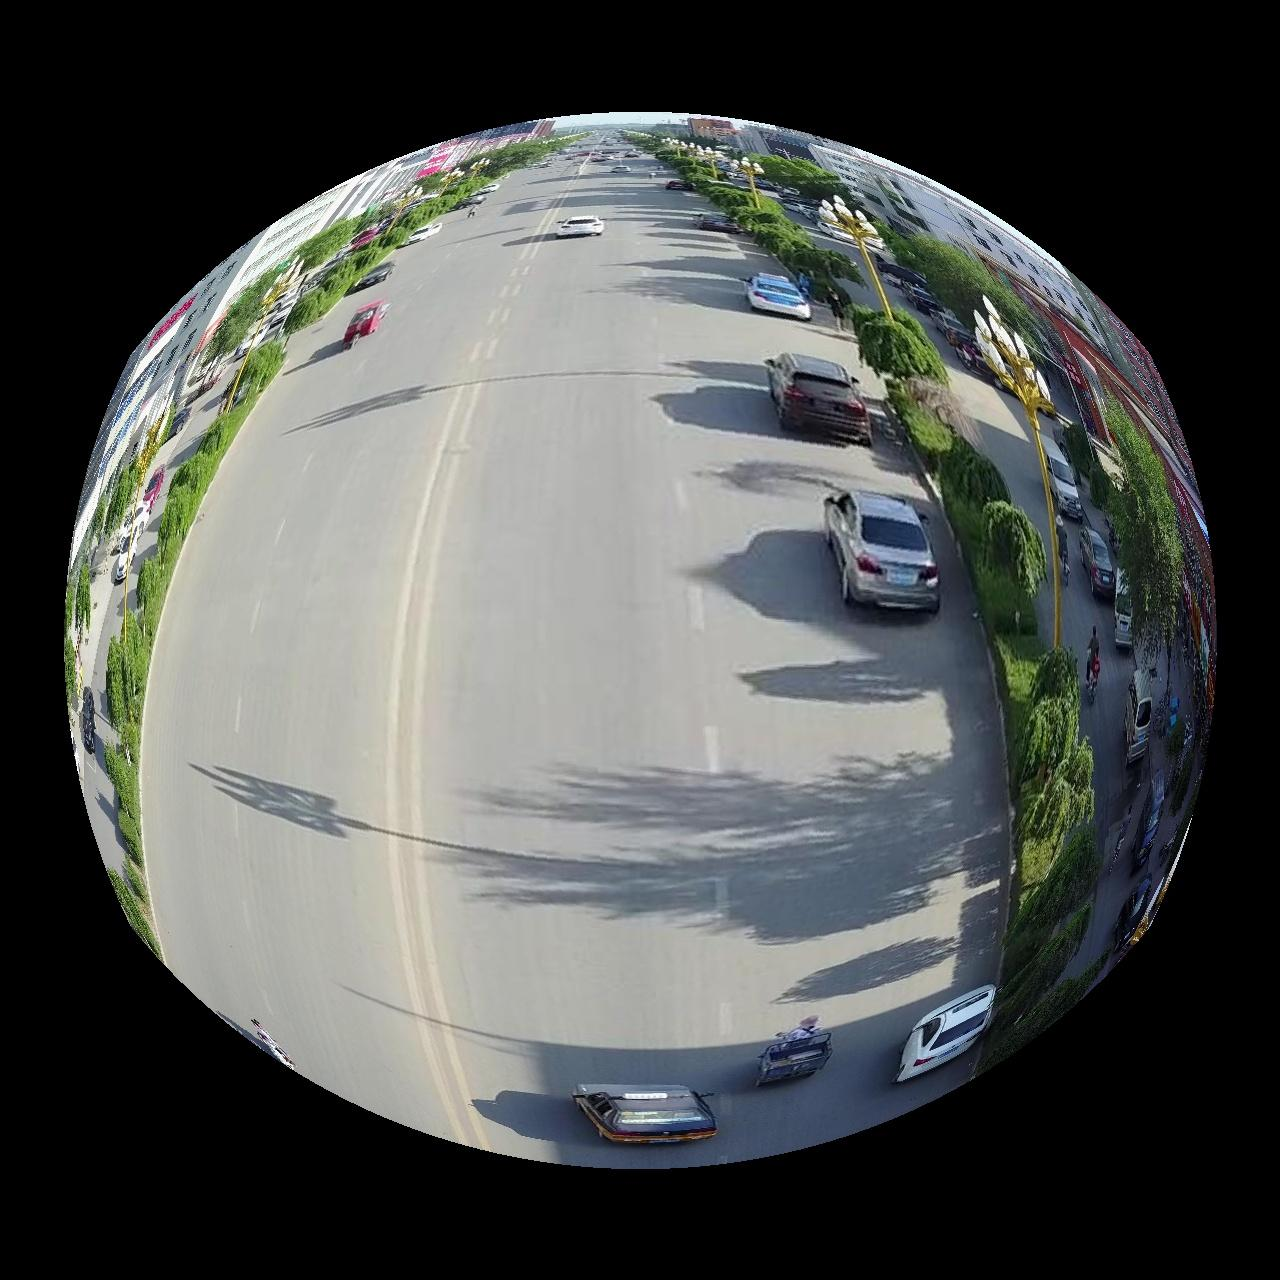cars: (826, 491, 941, 613), (896, 986, 998, 1084), (767, 352, 871, 444), (573, 1085, 717, 1146), (747, 272, 813, 320), (342, 298, 390, 347), (350, 259, 395, 290), (557, 215, 605, 237), (404, 222, 442, 244)
trees: (855, 307, 1107, 1064), (102, 340, 284, 955), (284, 136, 571, 333), (667, 154, 863, 293), (879, 223, 1039, 343)
